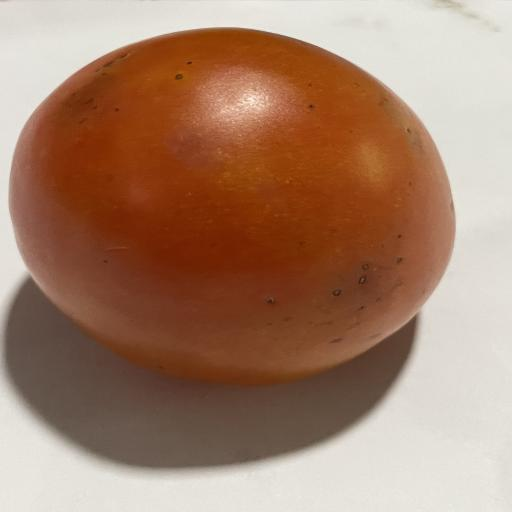ripe: (10, 28, 454, 385)
